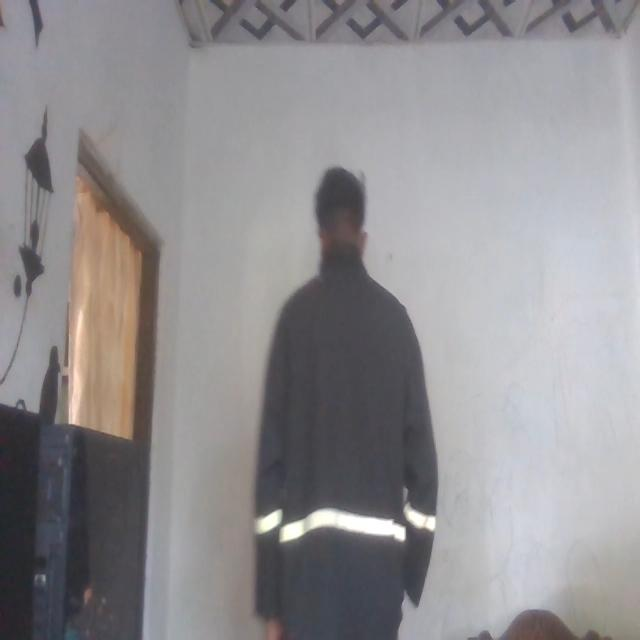Jacket_Wearer: (252, 252, 436, 640)
Person: (244, 153, 438, 640)
